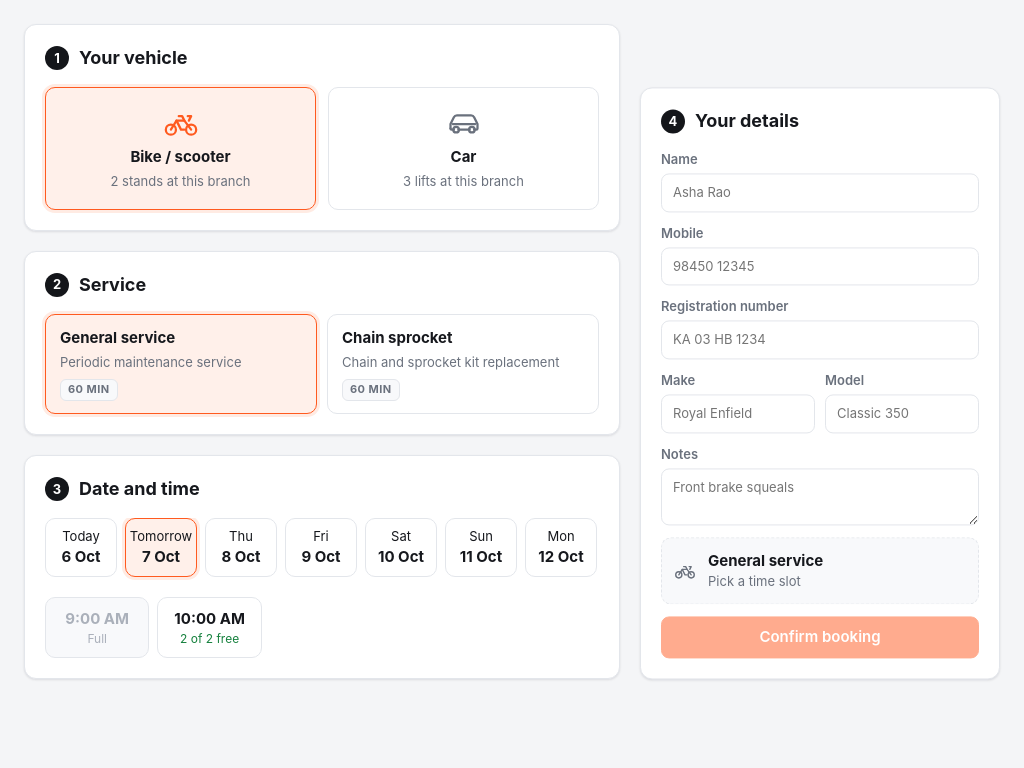
BookPage › books the chosen slot with an idempotency key and shows the confirmation
Type "Test Rider" into the field labelled "Name" at (820, 193), box [661,173,979,212]
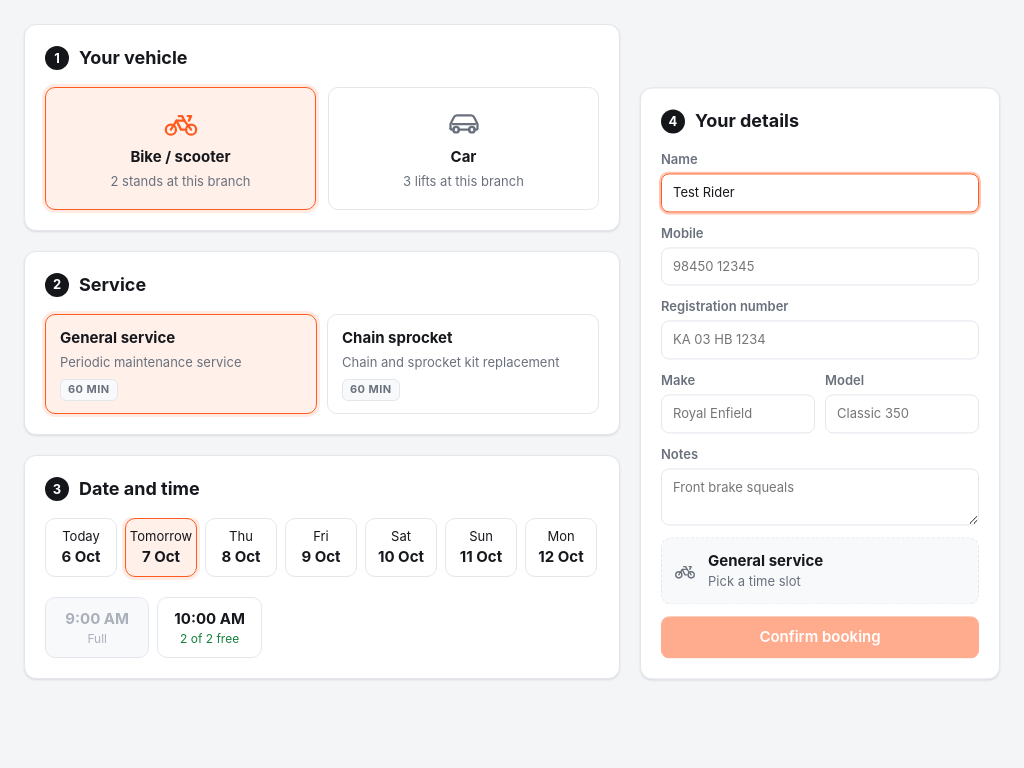
Type "98450 11111" into the field labelled "Mobile" at (820, 266), box [661,247,979,286]
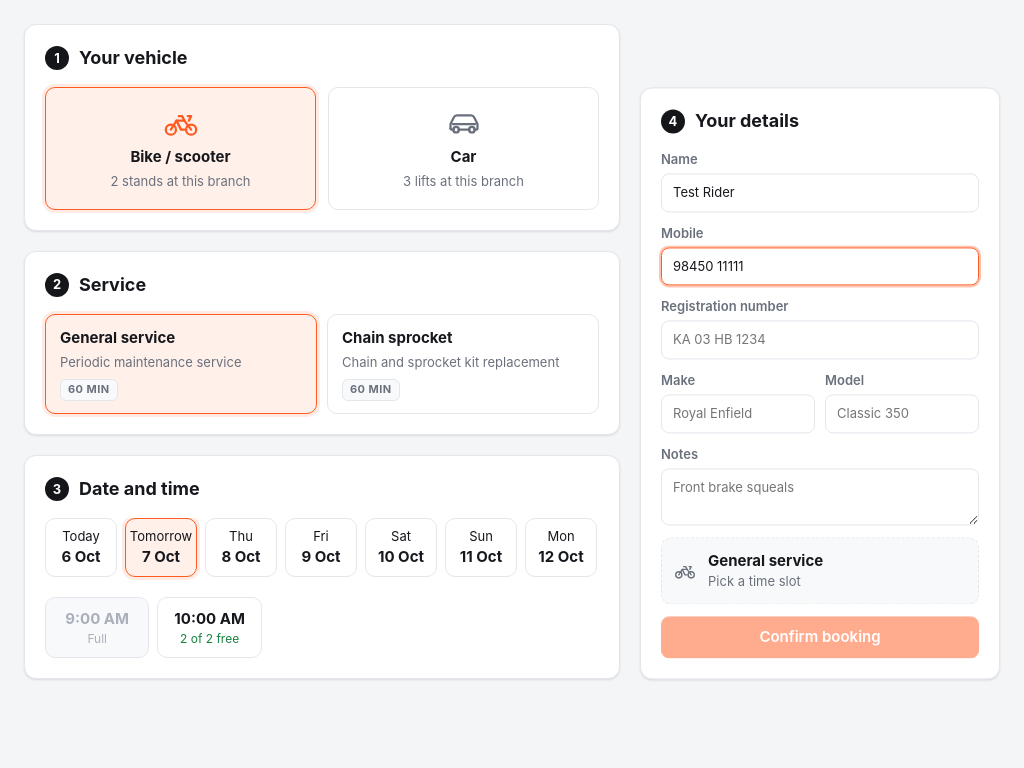
Type "KA05TR4242" into the field labelled "Registration number" at (820, 340), box [661,321,979,360]
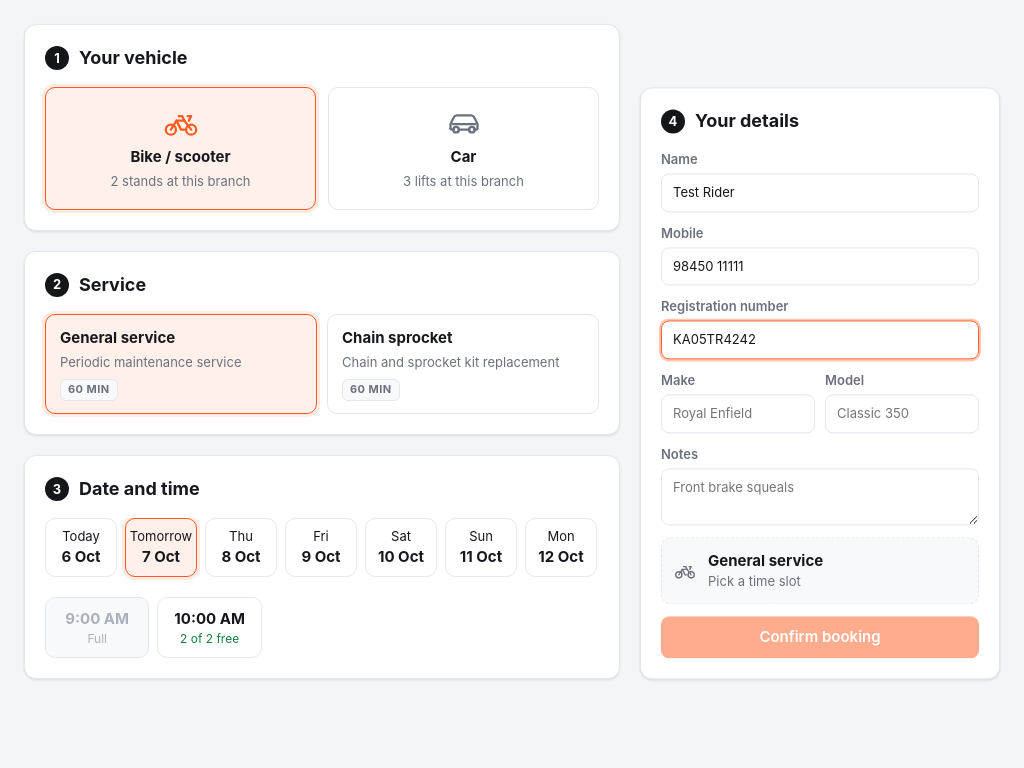
Click the button "10:00 AM 2 of 2 free" at (210, 628), box [157,597,262,658]
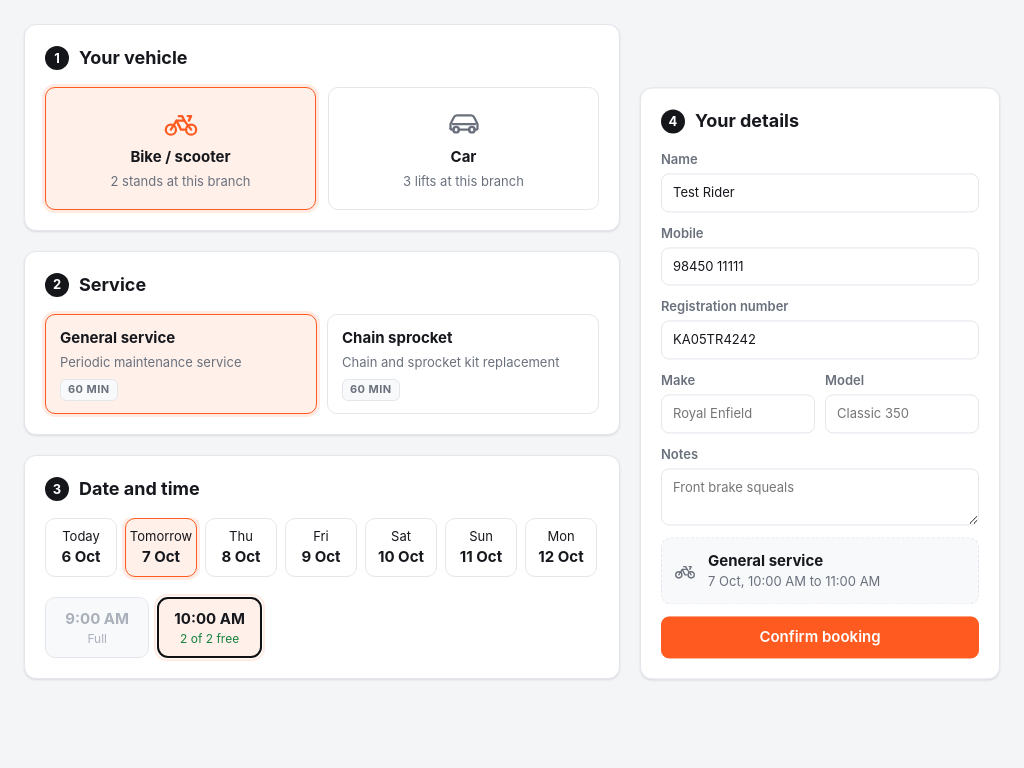
Click the button "Confirm booking" at (820, 637), box [661,616,979,658]
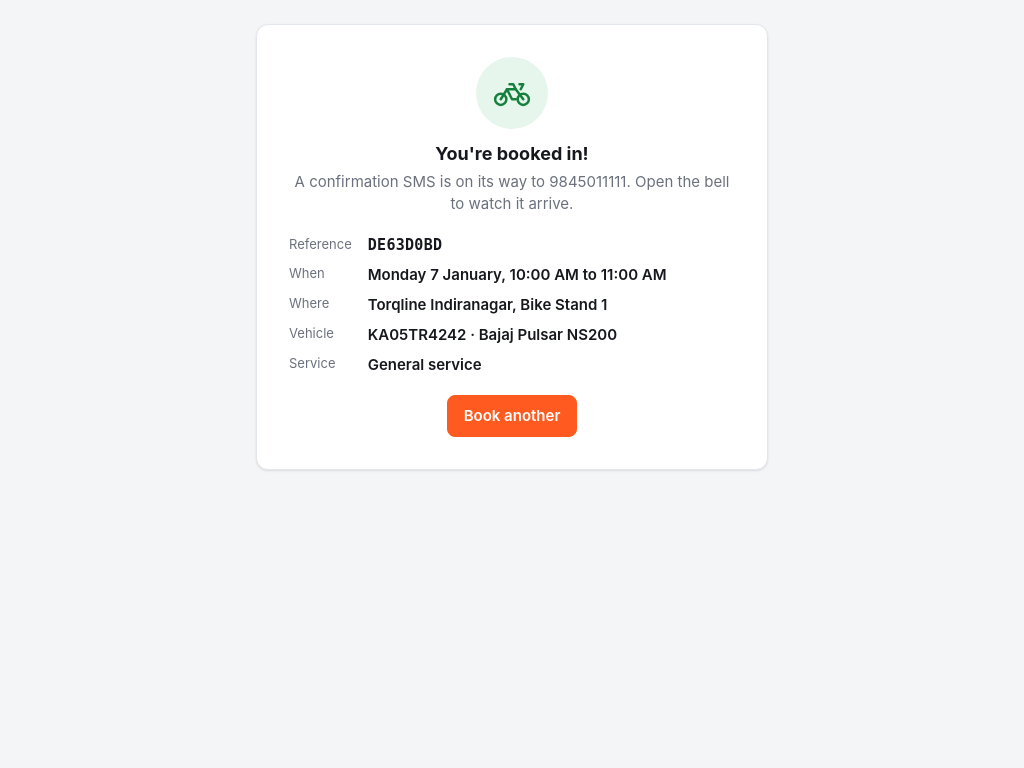
Check: the heading "You're booked in!" is shown, box [435,143,589,164]
Check: the text "Torqline Indiranagar, Bike Stand 1" is shown, box [368,295,607,314]
